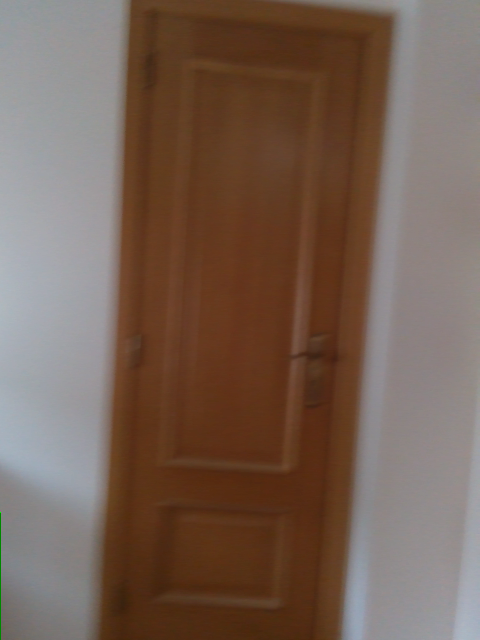closed: (96, 6, 399, 637)
